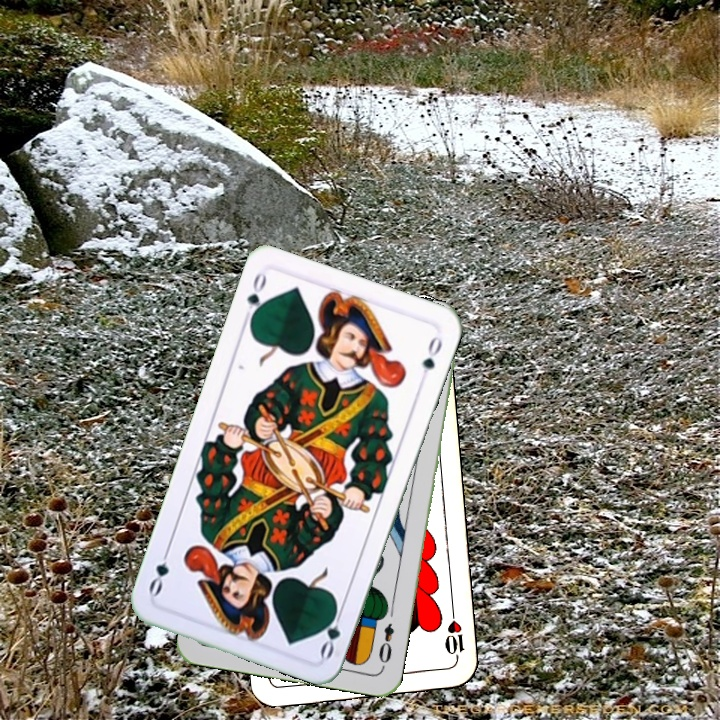EO: (374, 619, 397, 671)
GO: (239, 268, 270, 327), (316, 601, 346, 661)
H10: (441, 606, 467, 665)
